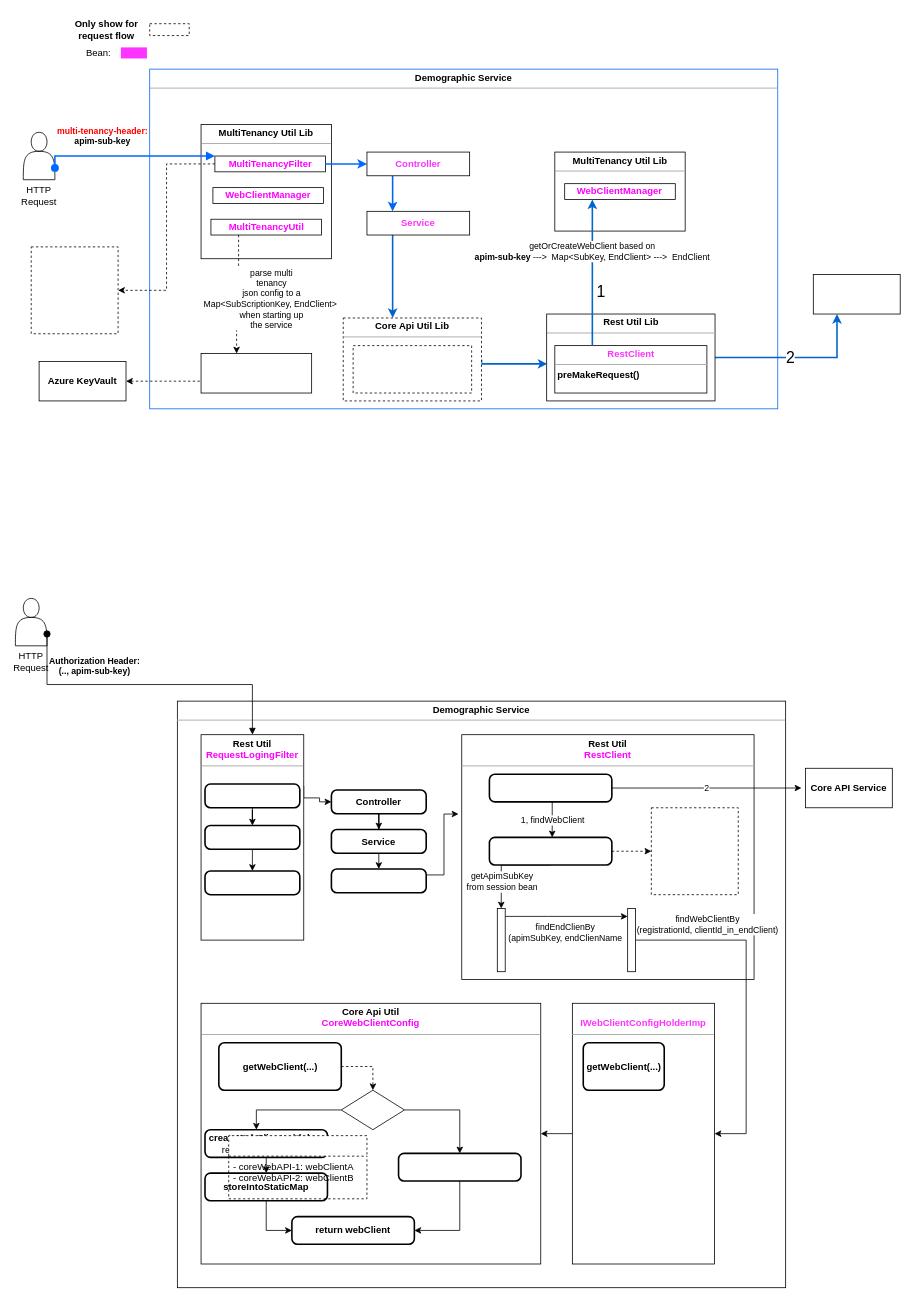
The diagram is 914 pixels wide and 1301 high, and some of its shapes have lost their labels. Each missing label, with the centre of its shape:
// return webClient that binding to (registrationId, clientId, clientSecret): the point at 694,851
1.Store apim-sub-key into a session bean 2. Logging AppName: the point at 74,290
application.yaml - dhp-multi-tenants: the point at 256,373
Core API Server: the point at 856,294
exists: the point at 372,1109
findAppNameBy apim-sub-key: the point at 252,795
getFromStaticMap: the point at 459,1166
loggingAppName: the point at 252,837
makeRequest (.., mulitenantParam): the point at 550,787
map: the point at 297,1167
MemberRestClient: the point at 378,880
MemberRestClient restClient .invokeAPI(): the point at 412,369
preMakeRequest (.., mulitenantParam): the point at 550,850
storeApimSubKey into session bean: the point at 252,882
